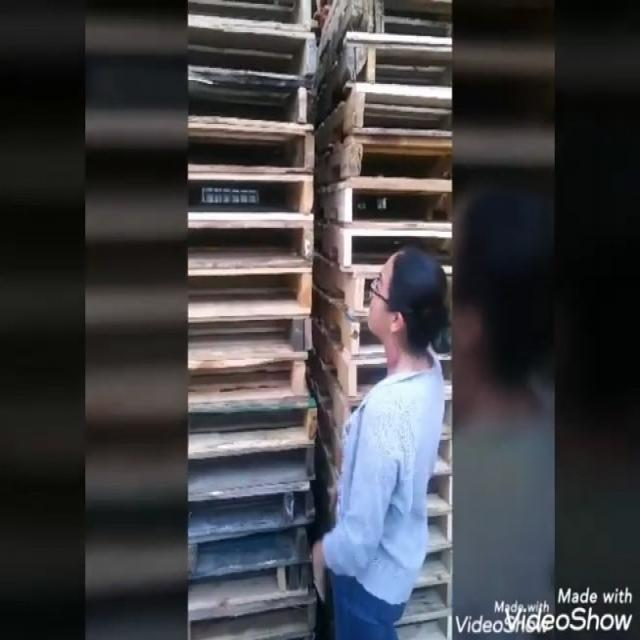Palette: (318, 0, 454, 640), (190, 0, 321, 640)
